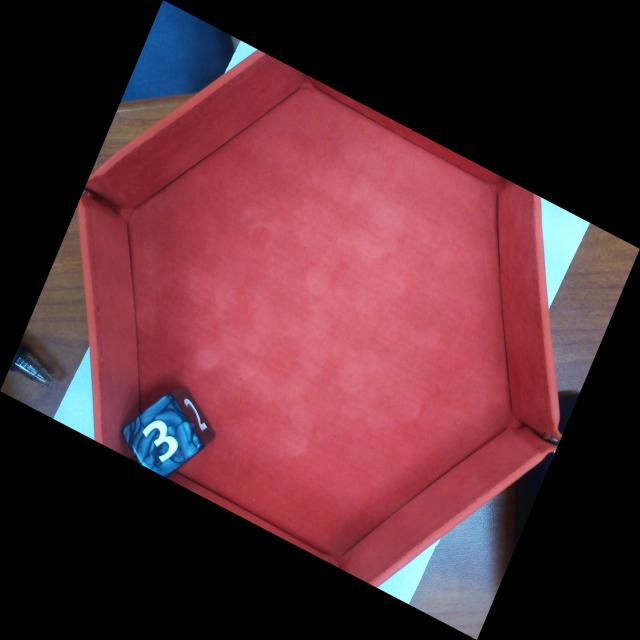dice: (115, 390, 206, 490)
